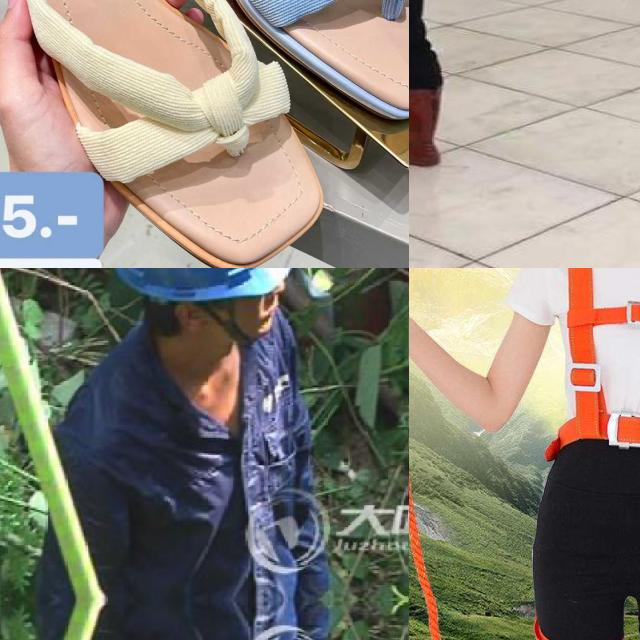Harness: (537, 268, 640, 640)
No_Ear-Protection: (172, 294, 205, 348)
Sandals: (0, 0, 338, 268), (91, 0, 409, 131)
face_nomask: (234, 288, 283, 339)
head_helmet: (115, 268, 290, 302)
